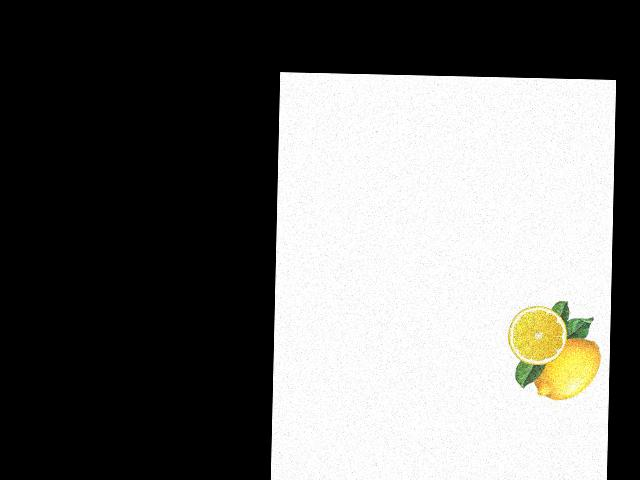lemon: (531, 329, 601, 401)
